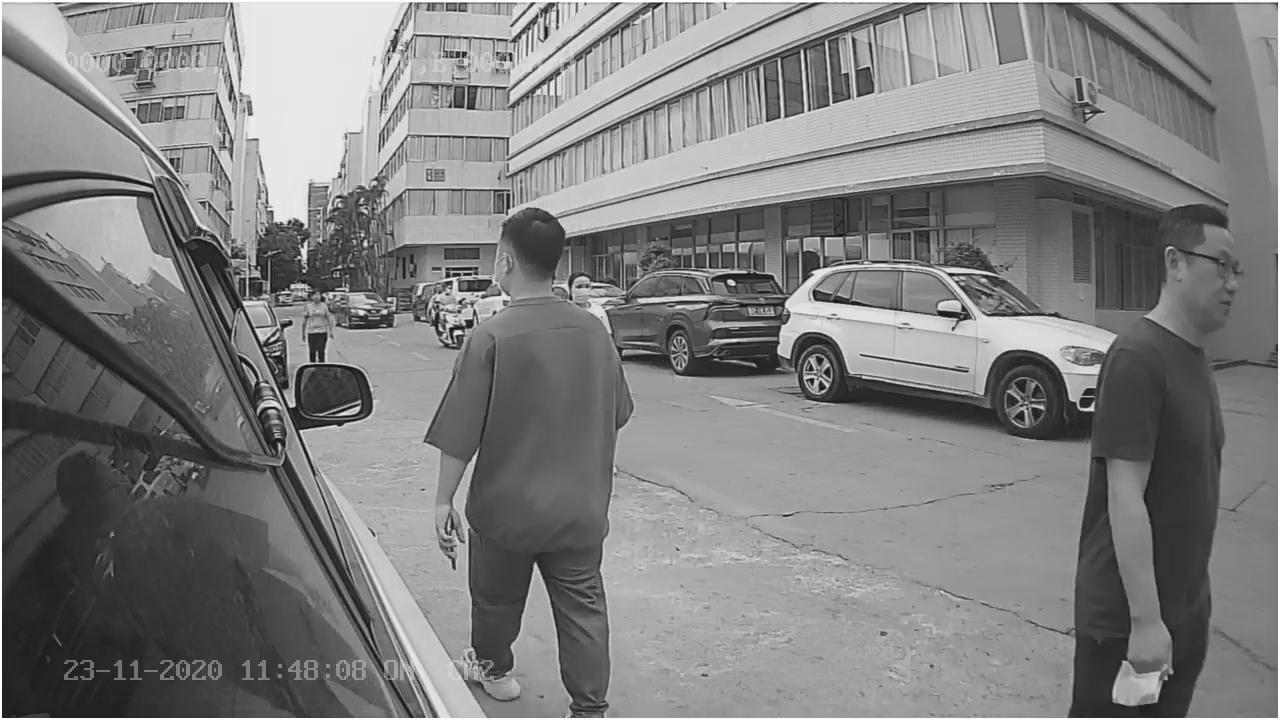person: (1062, 196, 1250, 658), (426, 201, 654, 554)
